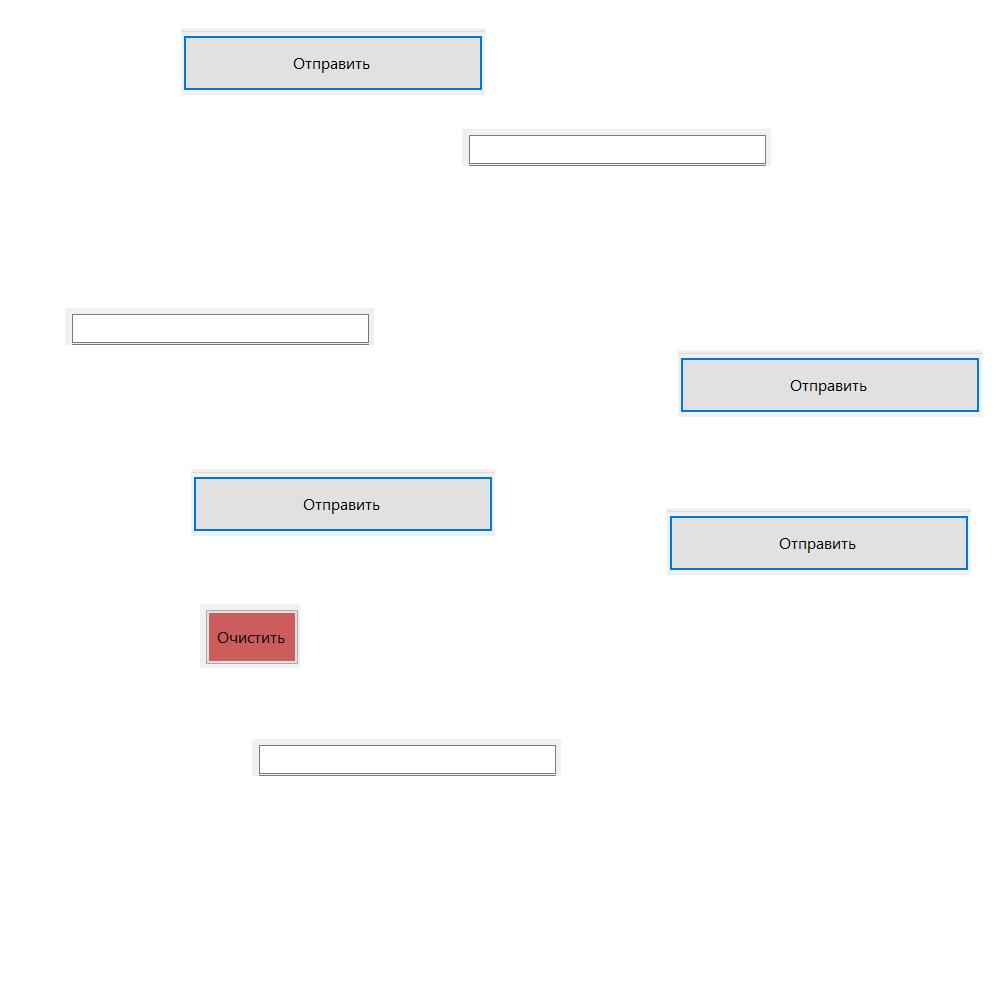Button: (181, 28, 485, 95), (191, 469, 495, 536), (678, 350, 982, 417), (667, 508, 971, 575), (200, 604, 300, 668)
EditText-: (65, 308, 374, 345), (462, 129, 771, 166), (252, 739, 561, 776)
